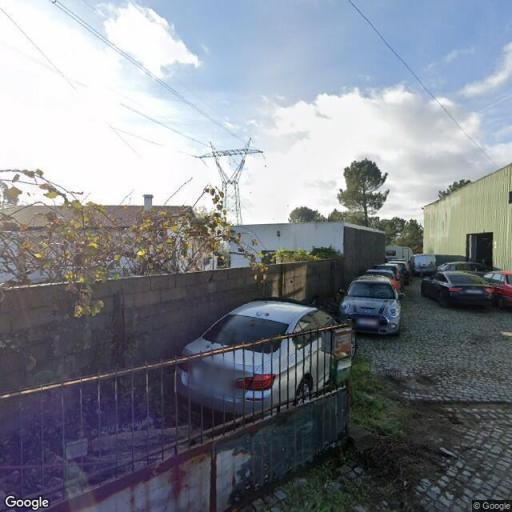wt_5: (194, 138, 263, 226)
